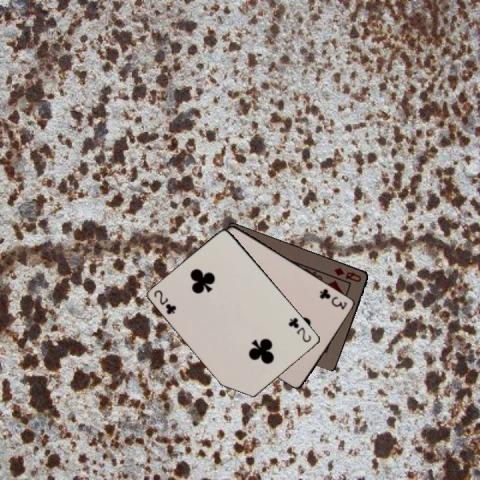2c: (285, 315, 313, 344), (151, 287, 178, 316)
3c: (316, 285, 348, 311)
Qd: (330, 265, 362, 283)
